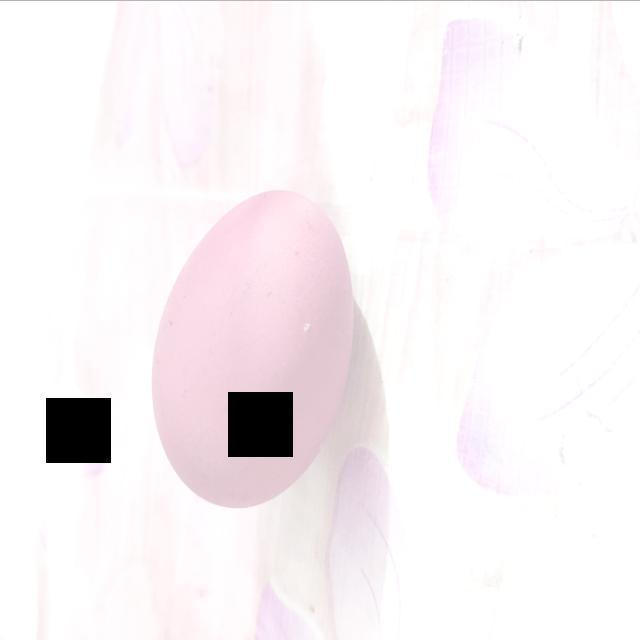egg: (142, 185, 362, 515)
